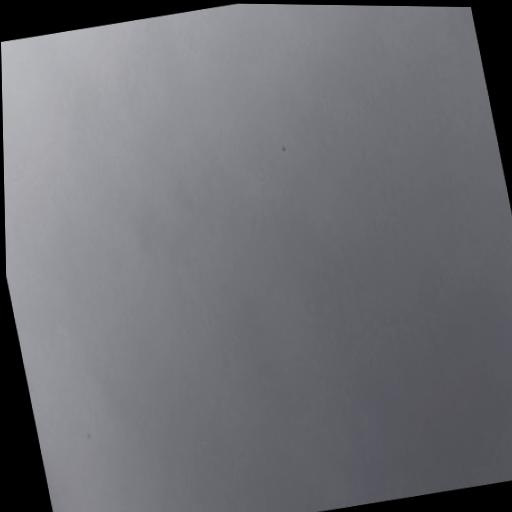drones: (281, 144, 287, 153)
